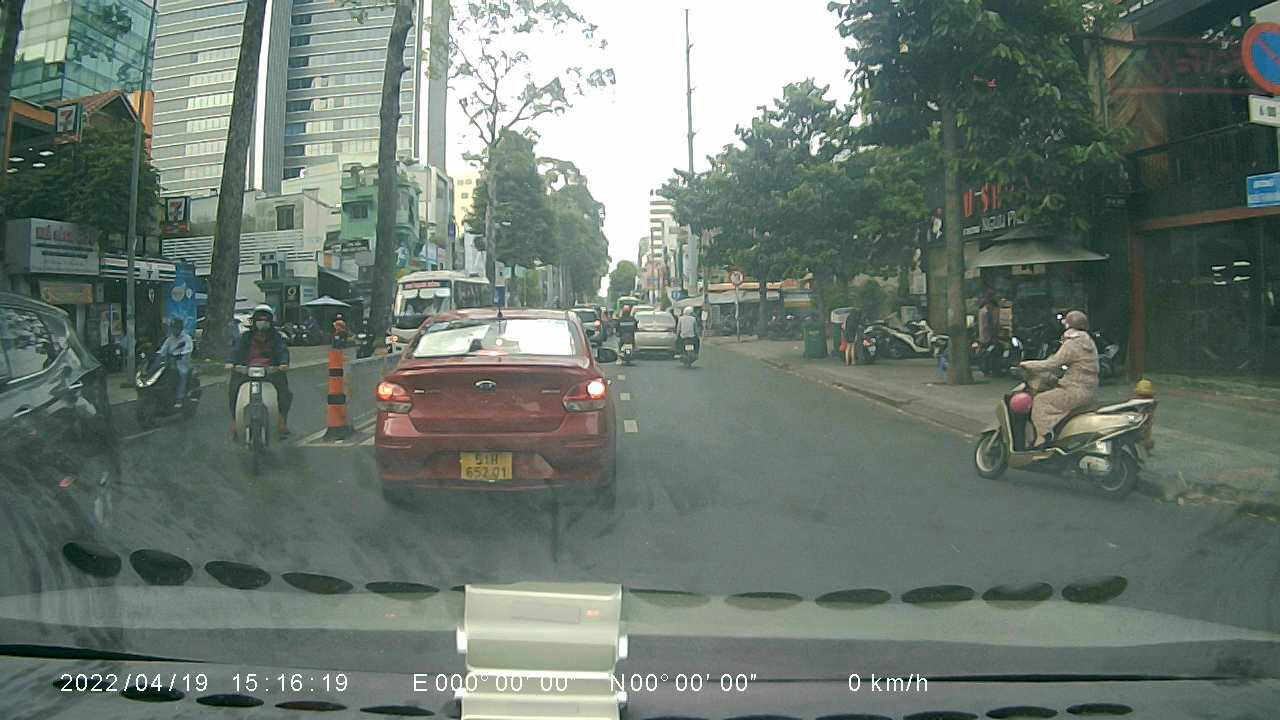Cam do xe: (1240, 18, 1280, 94)
